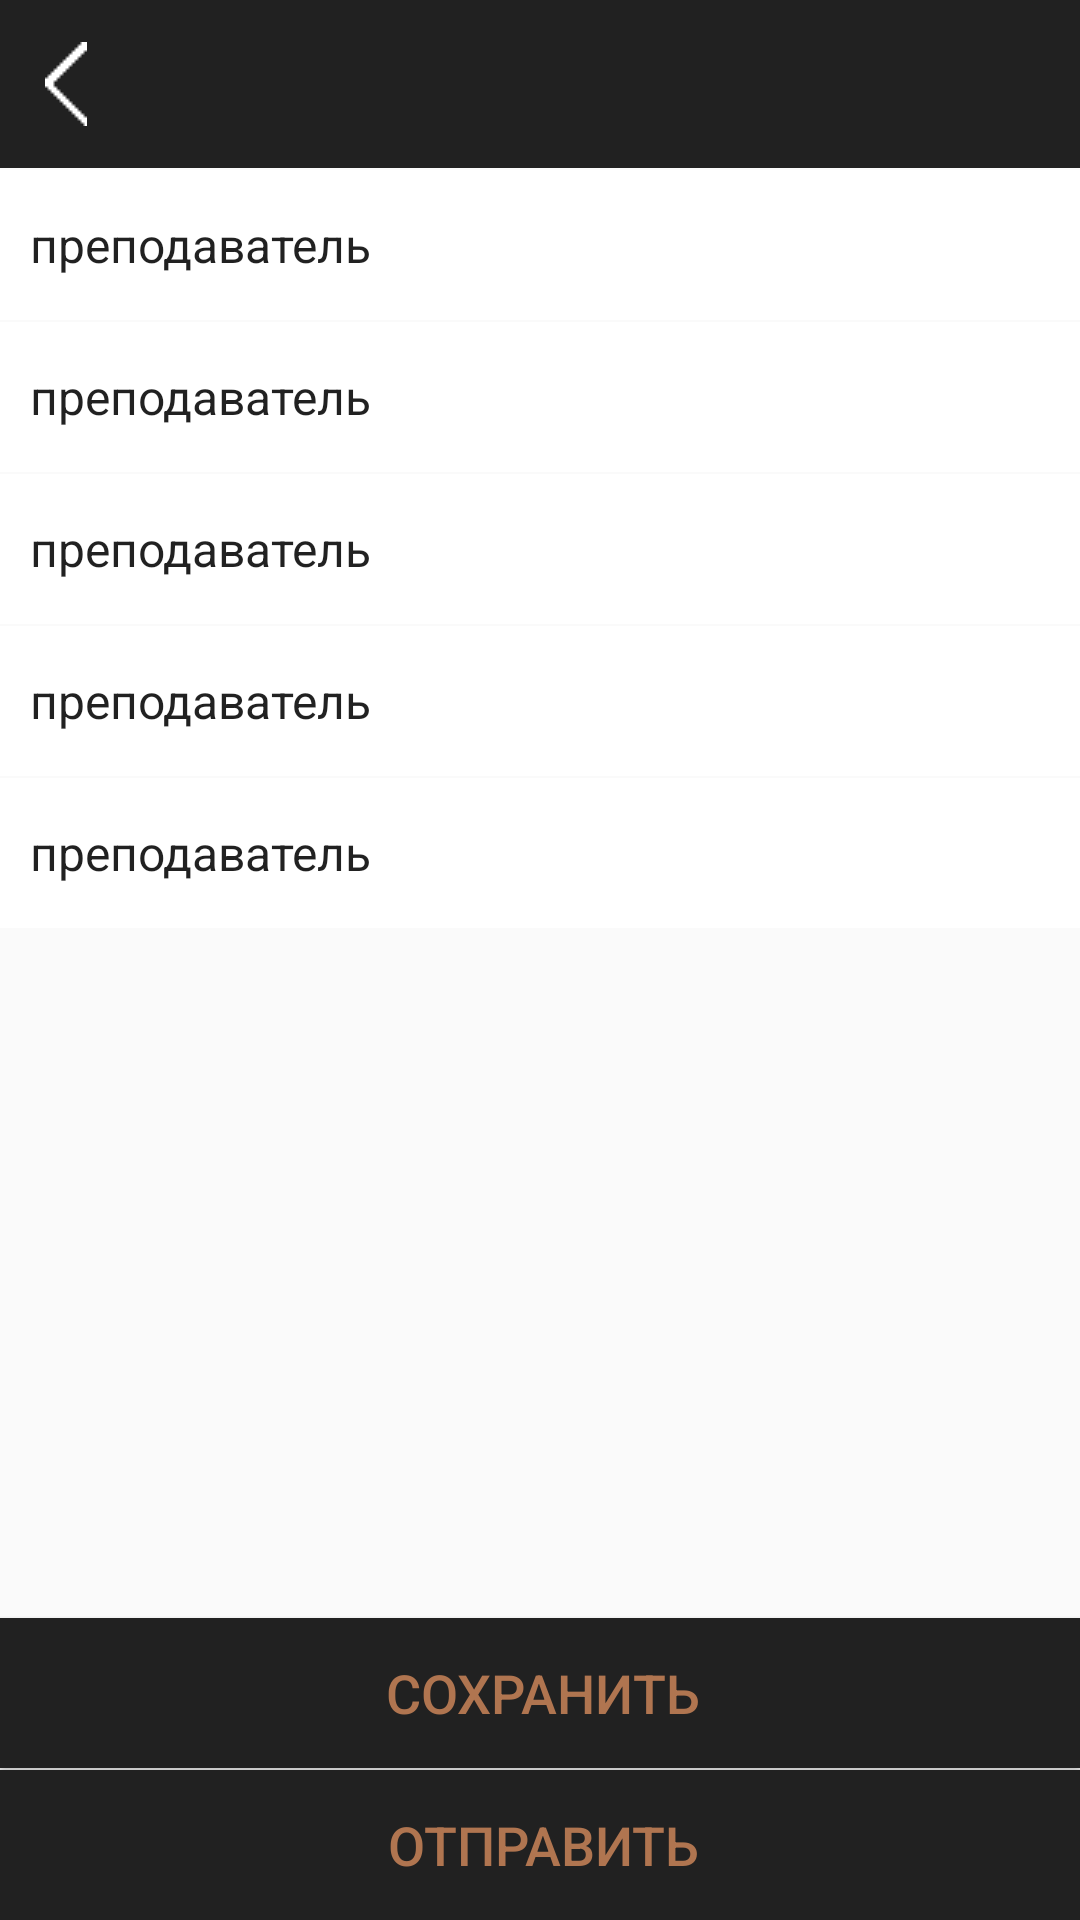

Locate icon controls on the screen. Image size 1080x1920, boxes as [x1, y1, x2, y2].
back: [45, 42, 87, 126]
